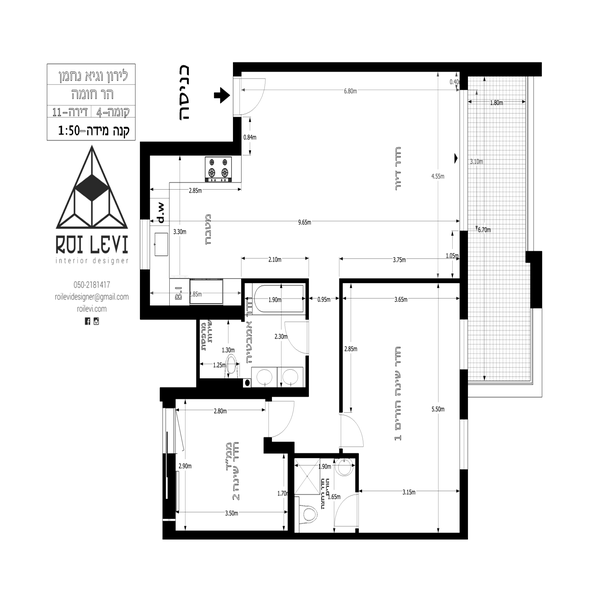door: (277, 315, 317, 353), (260, 398, 300, 436), (233, 74, 267, 115), (327, 495, 366, 530), (343, 412, 372, 450)
room: (229, 54, 474, 284), (343, 275, 474, 452), (154, 385, 298, 539), (137, 136, 248, 324), (285, 446, 475, 542), (185, 277, 318, 397)
wall: (232, 56, 543, 76), (174, 526, 466, 544), (161, 385, 307, 404), (137, 140, 241, 160), (135, 301, 244, 320), (133, 144, 157, 221), (160, 457, 181, 540), (458, 229, 474, 322), (524, 249, 544, 314), (284, 437, 297, 534), (338, 275, 460, 284), (339, 279, 347, 410), (457, 465, 471, 536), (236, 274, 313, 286), (296, 450, 361, 463), (262, 437, 298, 458), (137, 272, 152, 320), (457, 373, 471, 421), (350, 448, 363, 493), (231, 114, 247, 145), (303, 281, 314, 320), (306, 357, 315, 386)
window: (135, 218, 163, 268), (162, 404, 184, 455), (455, 418, 474, 467), (458, 320, 476, 368)
